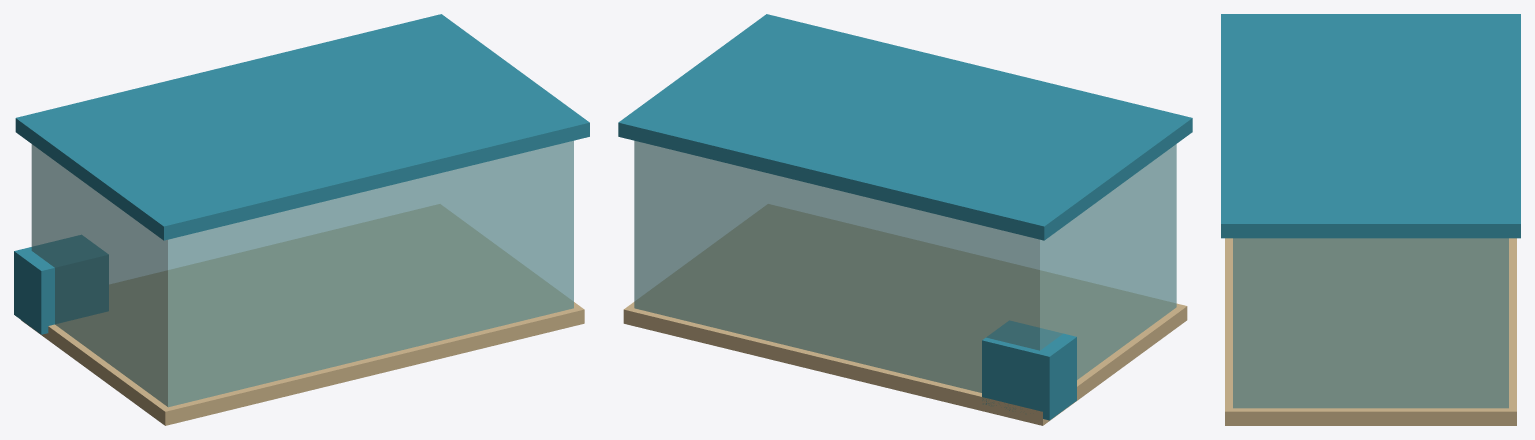
Rendered from climate-controlled-greenhouse.source.glb.
3 renders of one model, left to right at view 1: azimuth 30°, elevation 25°; view 2: azimuth 150°, elevation 25°; view 3: azimuth 270°, elevation 25°, orthographic.
Visible parts, largest first — view 1: climate-controlled-greenhouse-house-mesh, climate-controlled-greenhouse-roof-mesh, climate-controlled-greenhouse-base-mesh, climate-controlled-greenhouse-service-unit-mesh; view 2: climate-controlled-greenhouse-house-mesh, climate-controlled-greenhouse-roof-mesh, climate-controlled-greenhouse-base-mesh, climate-controlled-greenhouse-service-unit-mesh; view 3: climate-controlled-greenhouse-roof-mesh, climate-controlled-greenhouse-base-mesh, climate-controlled-greenhouse-house-mesh.
Part boxes in pixels (left/top/right/bottom): climate-controlled-greenhouse-house-mesh: left=31, top=140, right=573, bottom=407; climate-controlled-greenhouse-roof-mesh: left=15, top=14, right=589, bottom=240; climate-controlled-greenhouse-base-mesh: left=21, top=204, right=584, bottom=425; climate-controlled-greenhouse-service-unit-mesh: left=14, top=235, right=108, bottom=334; climate-controlled-greenhouse-house-mesh: left=634, top=140, right=1176, bottom=392; climate-controlled-greenhouse-roof-mesh: left=618, top=14, right=1192, bottom=240; climate-controlled-greenhouse-base-mesh: left=623, top=204, right=1187, bottom=425; climate-controlled-greenhouse-service-unit-mesh: left=982, top=320, right=1076, bottom=420; climate-controlled-greenhouse-roof-mesh: left=1221, top=14, right=1520, bottom=238; climate-controlled-greenhouse-base-mesh: left=1225, top=238, right=1516, bottom=425; climate-controlled-greenhouse-house-mesh: left=1233, top=238, right=1508, bottom=408.
Bounding box in the file's own units: 6.35 × 2.85 × 3.8.
